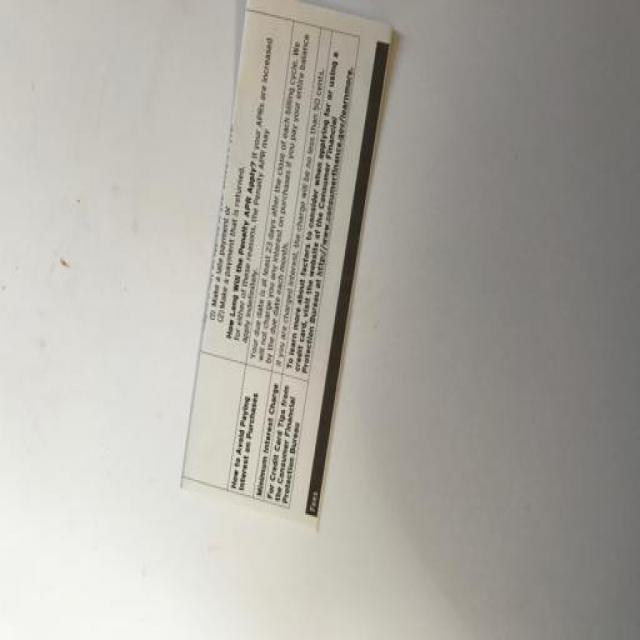paper: (168, 1, 453, 553)
